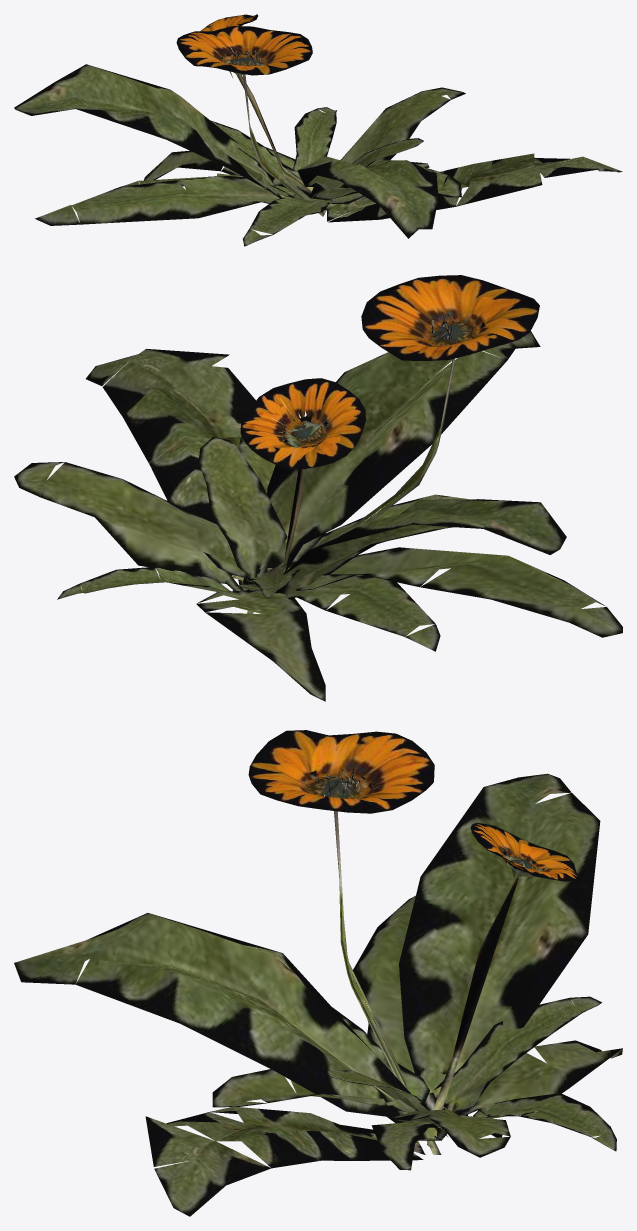
The model's file is ph-blume-gazania-e.glb.
3 renders of one model, top to bottom at view 1: azimuth 30°, elevation 25°; view 2: azimuth 150°, elevation 25°; view 3: azimuth 270°, elevation 25°, orthographic. The views are drawn at different scales.
Visible parts, largest first — view 1: flower_gazania_e_LOD0; view 2: flower_gazania_e_LOD0; view 3: flower_gazania_e_LOD0.
Boxes of the visible parts, <box> form: flower_gazania_e_LOD0: <box>14,14,622,246</box>; flower_gazania_e_LOD0: <box>14,275,622,701</box>; flower_gazania_e_LOD0: <box>14,730,622,1216</box>.
Size of the model in its own units: 0.2408 by 0.1064 by 0.1859.
Materials: 1 (1 with a texture image).
